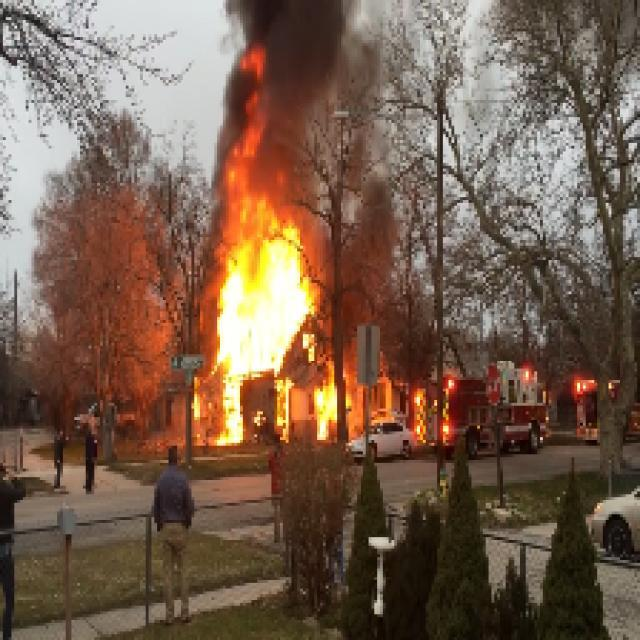Fire: (226, 220, 302, 372), (314, 378, 342, 434), (218, 378, 242, 442)
Smoke: (258, 0, 338, 212)
